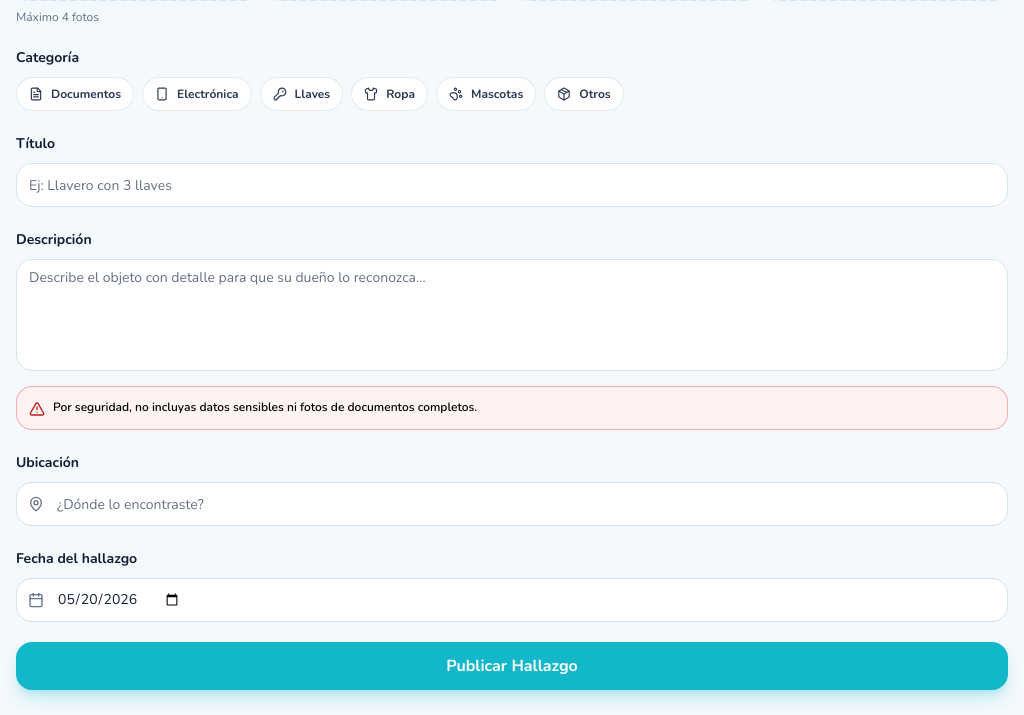
Test case: PublishScreen — validación de campos obligatorios › muestra error de título cuando el campo está vacío al intentar publicar
(page scrolled)
Click the button "Publicar Hallazgo" at (512, 666), box [16,642,1008,690]
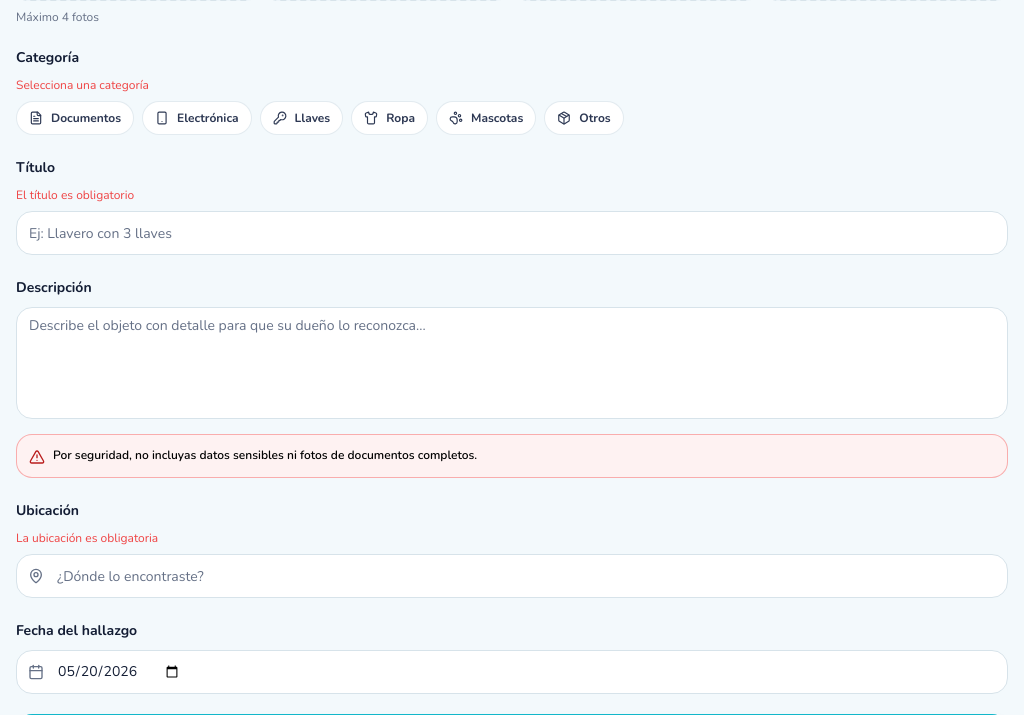
expect the text "El título es obligatorio" is shown: met, box [16,187,134,203]
